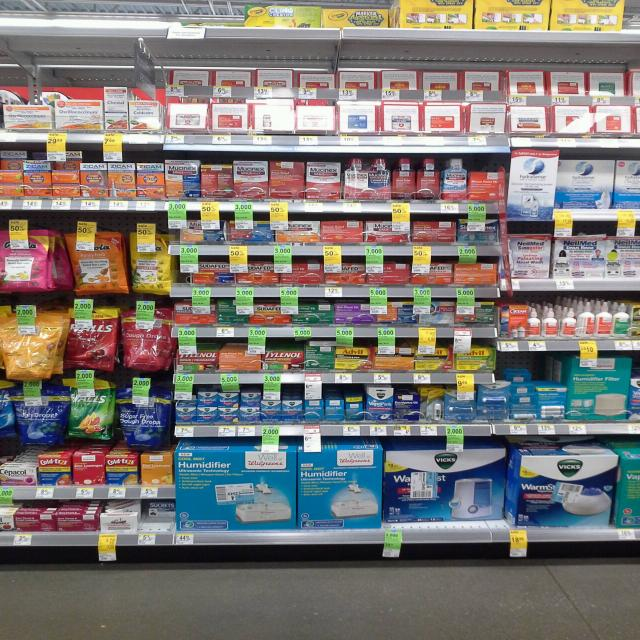unorganised: (384, 446, 510, 527), (172, 66, 506, 89), (240, 1, 398, 28), (467, 101, 510, 136), (142, 499, 175, 528), (1, 149, 25, 170), (55, 150, 78, 170)
